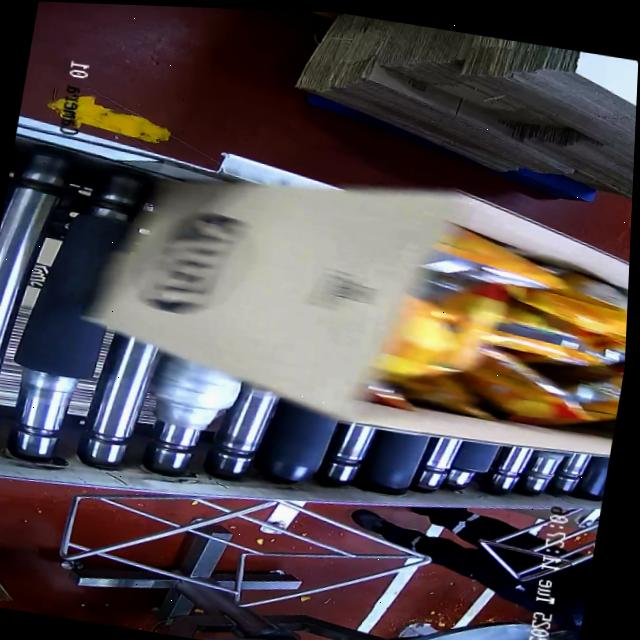FRENCH_CHEESE: (383, 243, 630, 450)
